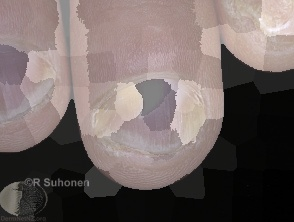Nail_psoriasis: (77, 63, 224, 185), (4, 39, 74, 133), (218, 0, 294, 57)
